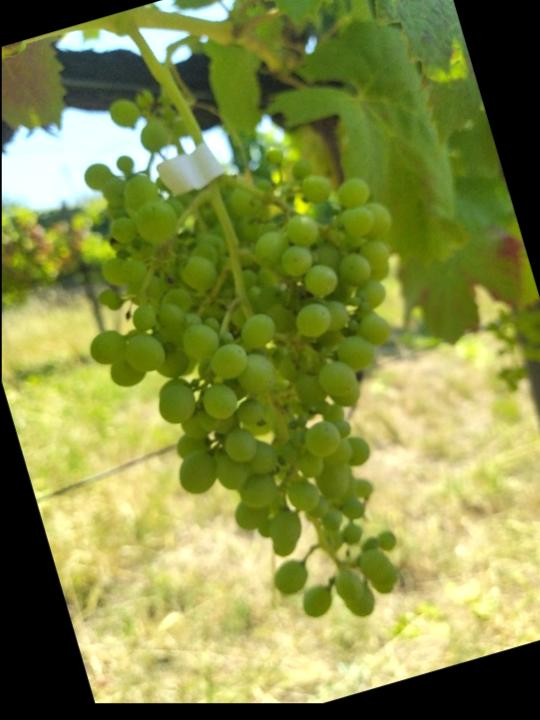grape: (39, 87, 500, 674)
